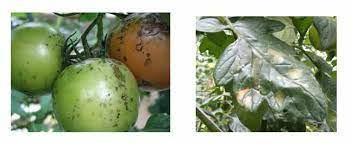tomato bacterial spot: (53, 59, 143, 133), (108, 15, 171, 90), (11, 13, 66, 96)
